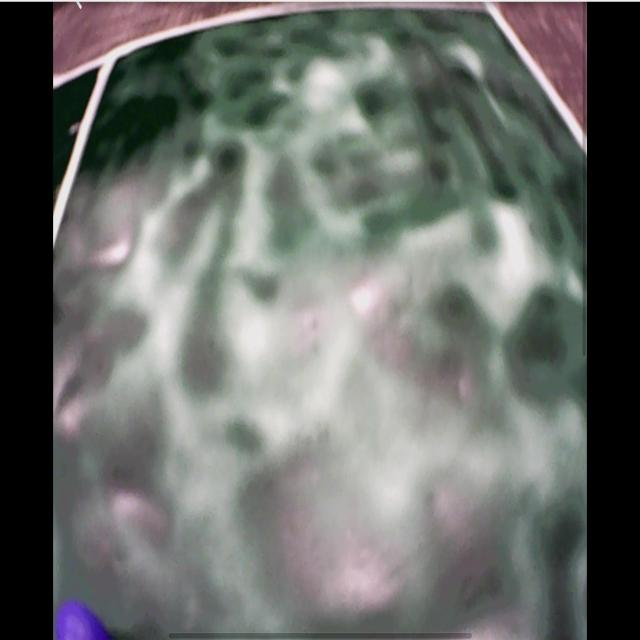ball: (56, 600, 111, 640)
